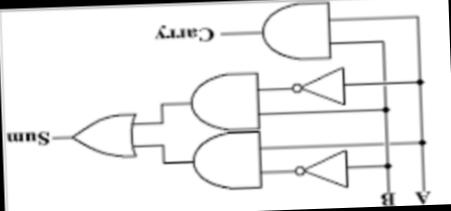and: (252, 0, 337, 64), (185, 129, 267, 194), (184, 68, 265, 131)
not: (292, 146, 350, 196), (286, 65, 350, 107)
or: (66, 102, 142, 166)
